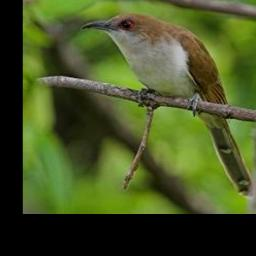Cuckoo: (79, 12, 253, 197)
